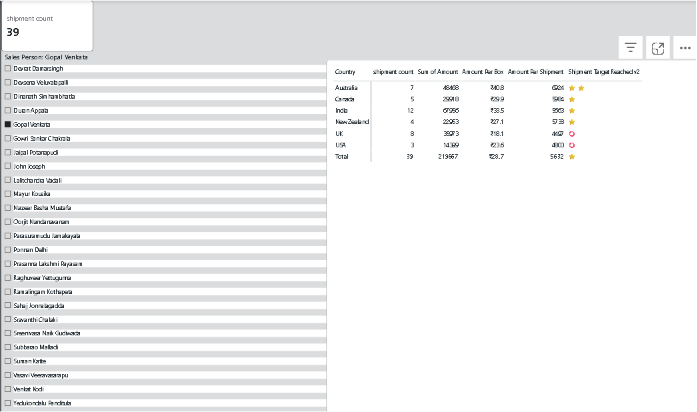

Layout of this report page (visuals, bound fields, positions):
{"tool":"powerbi","page":{"name":"Page 4","canvas":[1920,1080],"ordinal":3},"visuals":[{"type":"cardVisual","fields":{"Data":["data.shipment count"]},"box":[0,0,224.5,126.9],"z":0},{"type":"pivotTable","fields":{"Rows":["data.Country"],"Values":["data.shipment count","Sum(data.Amount)","data.Amount Per Box","data.Amount Per Shipment","data.Shipment Target Reached v2"]},"box":[792.9,146.4,907.6,861.3],"z":1000},{"type":"slicer","fields":{"Values":["data.Sales Person"]},"box":[0,126.9,792.9,954],"z":2000}]}

Visuals, with their boxes on the page's 1920x1080 design canvas (x1, y1, x2, y2). These are canvas units, not pixel positions in the 697x412 screenshot, which may show the page scaled, cropped or inside an application window:
cardVisual - data.shipment count: (0,0,224,127)
pivotTable - data.Country x data.shipment count: (793,146,1700,1008)
slicer - data.Sales Person: (0,127,793,1081)
